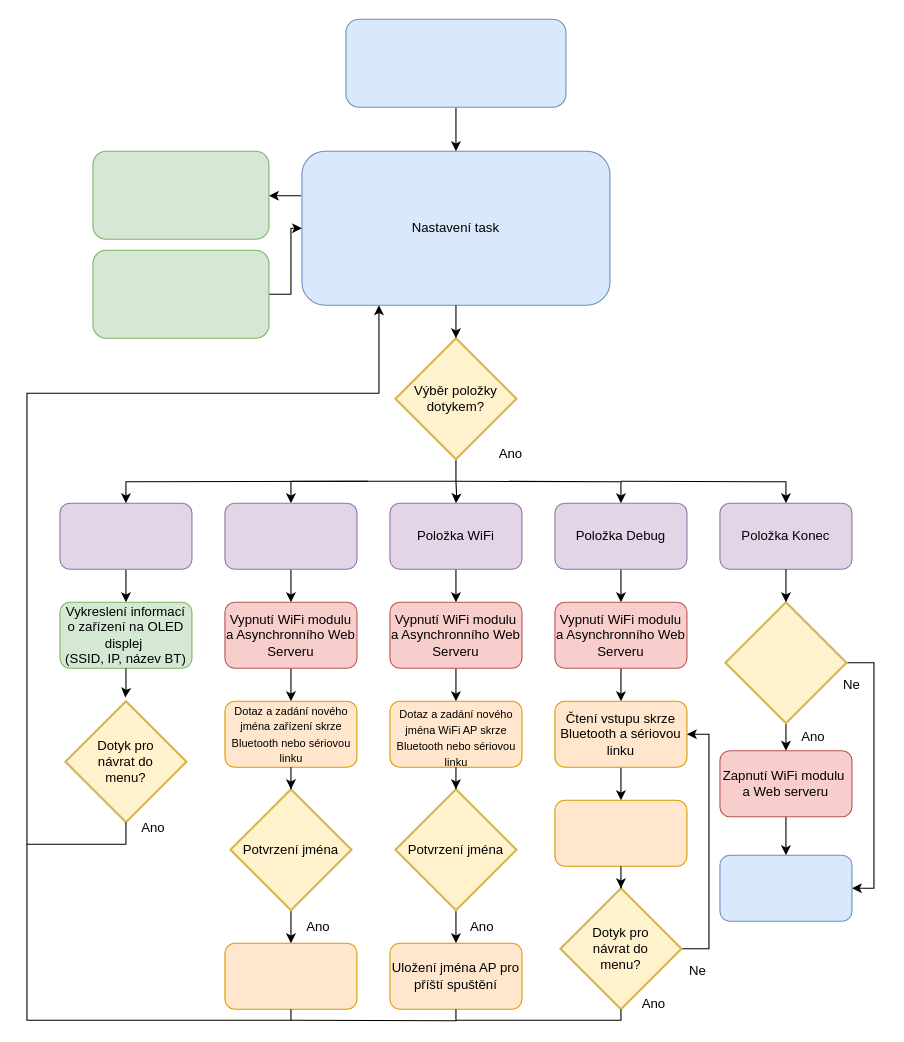
Some shapes in this 904 by 1042 pixel diagram are drawn without their labels. Here are the shapes that lost their labels. From the top down, the box of each, then its label:
(345, 18, 566, 107): Vstup na žádost uživatele z hlavního menu
(92, 150, 269, 239): Ovládání tlačítky a dotykovým senzorem k změně hodnot
(92, 249, 269, 338): Aktualizace údajů na OLED displeji
(59, 502, 192, 569): Položka Info
(224, 502, 357, 569): Položka Bluetooth
(724, 601, 847, 724): Byl vypnut WiFi modul a Web server?
(554, 799, 687, 866): Odpověď skrze Bluetooth a sériovou linku
(719, 854, 852, 921): Žádost o ukončení modulu
(224, 942, 357, 1009): Uložení jména a restart bluetooth modulu
